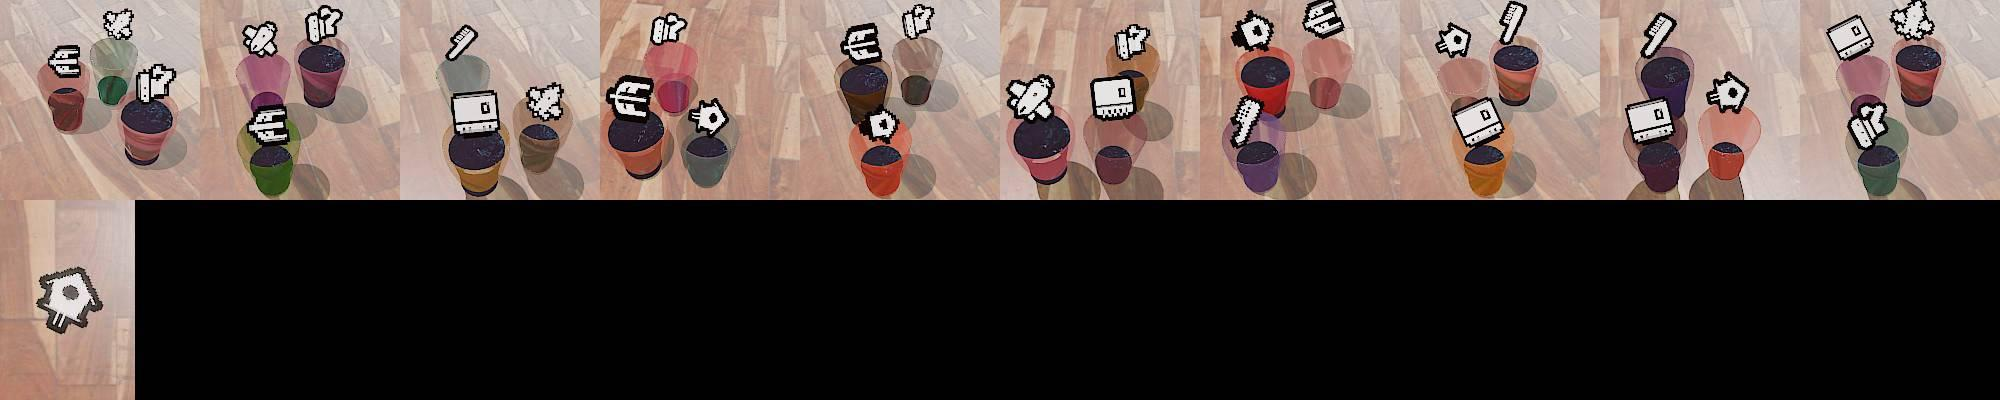icon: (34, 265, 103, 334), (1450, 96, 1505, 149), (1624, 96, 1676, 148), (1825, 14, 1875, 64), (450, 89, 501, 136), (605, 74, 654, 120), (1091, 74, 1138, 121), (1006, 74, 1052, 120), (1230, 93, 1265, 149), (1847, 101, 1888, 149), (1890, 0, 1934, 42), (1232, 10, 1274, 54), (1707, 71, 1749, 115), (1640, 11, 1677, 60), (841, 22, 883, 64), (246, 104, 290, 145), (136, 62, 177, 104), (1301, 0, 1344, 39), (526, 80, 565, 122), (687, 97, 730, 136), (305, 4, 343, 43), (1115, 22, 1152, 61), (242, 20, 279, 59), (444, 23, 480, 62), (1497, 0, 1528, 46), (1436, 22, 1472, 60), (649, 11, 689, 46), (865, 107, 901, 143), (902, 3, 935, 41), (47, 45, 82, 79), (102, 8, 135, 42)
